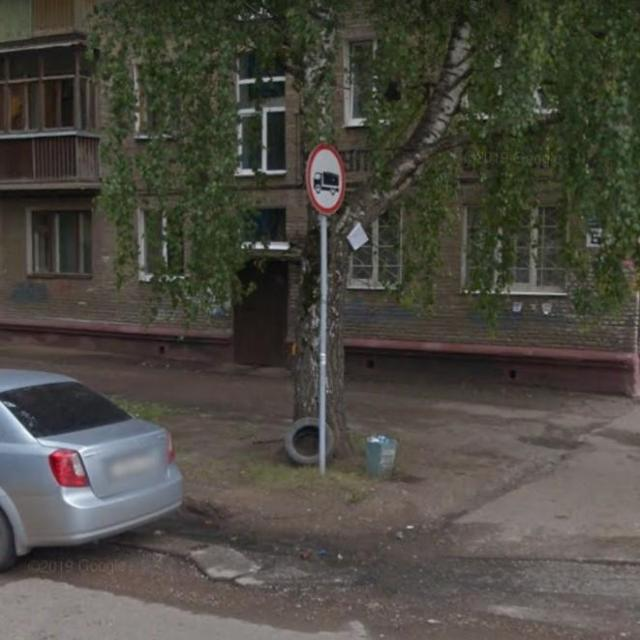truck: (302, 142, 348, 224)
